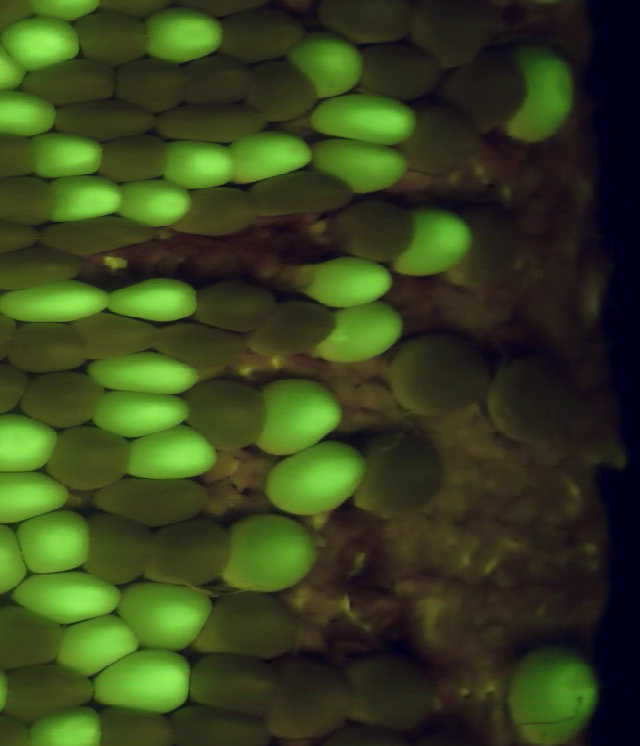fluorescent: (500, 640, 608, 745), (255, 435, 372, 524), (215, 510, 325, 595), (109, 573, 217, 653), (248, 374, 343, 463), (504, 39, 578, 148), (85, 644, 195, 717), (303, 297, 408, 369), (10, 565, 127, 629), (389, 202, 478, 284), (50, 607, 143, 683), (306, 91, 426, 149), (118, 423, 225, 486), (280, 28, 371, 102), (307, 134, 415, 194), (291, 248, 396, 309), (82, 346, 205, 398), (88, 386, 196, 443), (0, 278, 118, 330), (14, 506, 101, 575), (225, 125, 318, 188), (135, 7, 232, 65), (102, 272, 204, 325), (25, 125, 112, 184), (0, 15, 88, 73), (155, 137, 245, 193), (0, 465, 77, 529), (47, 171, 129, 226), (112, 175, 197, 228), (0, 411, 66, 477), (20, 701, 111, 746), (0, 87, 65, 141), (0, 518, 37, 595), (0, 30, 32, 98)
nonfluorescent: (385, 326, 501, 416), (481, 346, 583, 445), (254, 653, 361, 744), (351, 423, 448, 521), (337, 646, 441, 733), (191, 589, 305, 664), (436, 49, 535, 129), (392, 97, 486, 177), (180, 376, 276, 454), (93, 473, 216, 531), (143, 516, 237, 591), (42, 420, 137, 494), (10, 55, 129, 111), (48, 91, 169, 144), (80, 506, 157, 589), (40, 211, 167, 261), (248, 167, 359, 224), (187, 648, 289, 710), (451, 203, 529, 284), (0, 661, 100, 724), (239, 51, 322, 126), (348, 39, 445, 103), (158, 95, 271, 149), (334, 198, 421, 266), (110, 54, 200, 119), (19, 366, 111, 429), (246, 298, 341, 359), (0, 599, 72, 676), (67, 310, 166, 365), (150, 319, 252, 372), (171, 182, 265, 239), (166, 700, 281, 746), (191, 276, 281, 334), (6, 316, 94, 375), (173, 50, 258, 110), (0, 242, 95, 294), (91, 130, 174, 186), (93, 702, 180, 746), (0, 171, 60, 226), (0, 124, 41, 184), (0, 211, 42, 265), (0, 361, 31, 422), (0, 1, 36, 42), (0, 711, 38, 746)
